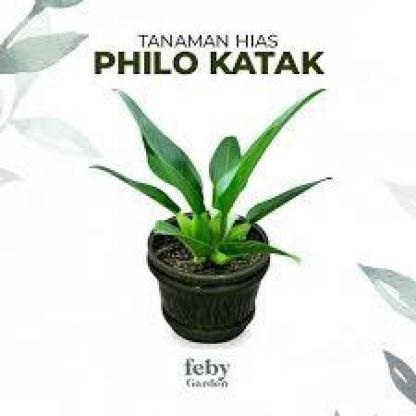Kenanga: (129, 116, 304, 278)
